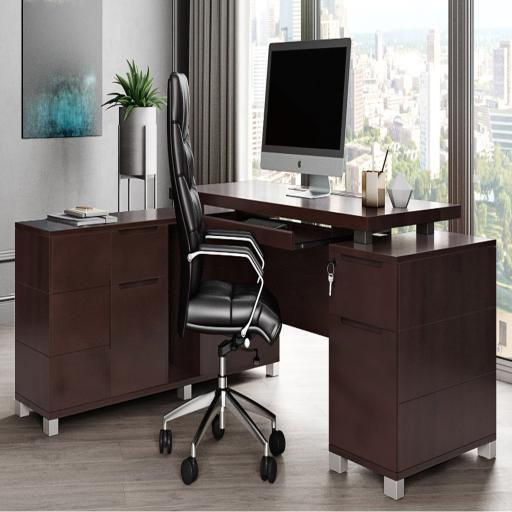chair: (159, 71, 286, 486)
desk: (14, 178, 497, 500)
wall: (0, 0, 172, 300)
